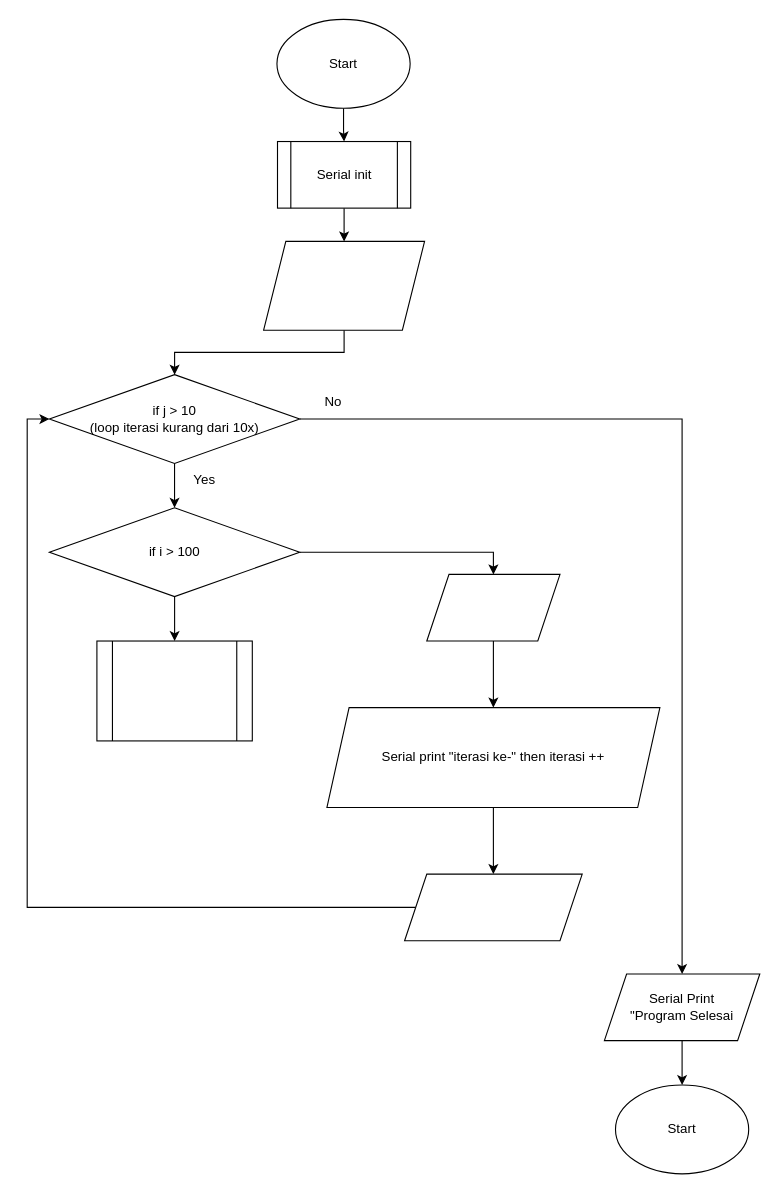
The diagram is 779 pixels wide and 1193 high, and some of its shapes have lost their labels. The shapes that lost their labels are listed below. From the top down, each one's centre as x and y in pixels, then its label:
point (344, 285): Input Temperature
point (493, 607): Average Temp
point (174, 690): Read Sensor value, save value, i++ then delay for 10ms
point (492, 907): Print rata rata temperature berdasarkan iterasi then j++
